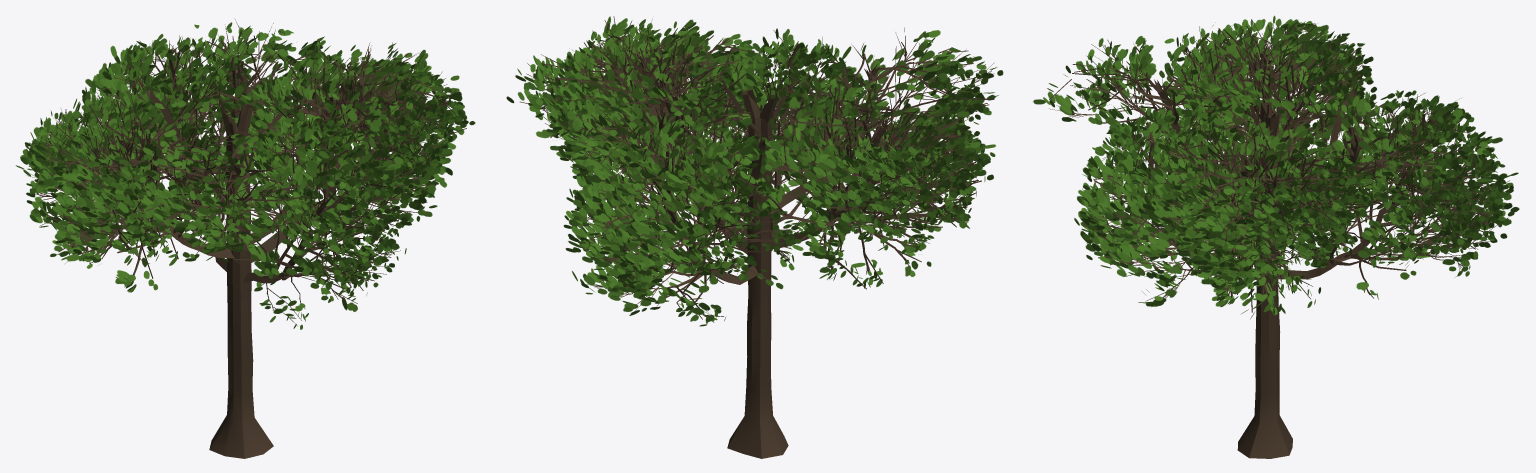
The picture shows the model from 3 angles, left to right: view 1: azimuth 30°, elevation 25°; view 2: azimuth 150°, elevation 25°; view 3: azimuth 270°, elevation 25°; orthographic projection. The views are drawn at different scales.
Visible parts, largest first — view 1: oak 01.001_trunk_Mat.001_0.077; view 2: oak 01.001_trunk_Mat.001_0.077; view 3: oak 01.001_trunk_Mat.001_0.077.
Part boxes in pixels (x1,y1,x2,y2): oak 01.001_trunk_Mat.001_0.077: [15, 18, 475, 458]; oak 01.001_trunk_Mat.001_0.077: [506, 16, 1003, 458]; oak 01.001_trunk_Mat.001_0.077: [1033, 15, 1519, 458].
Bounding box in the file's own units: 5.48 × 4.3 × 5.36.
Materials: 2 (1 with a texture image).
